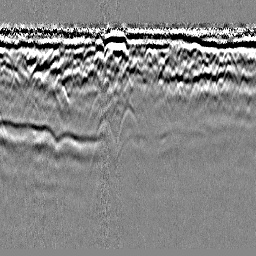cavity: (116, 99, 141, 145)
